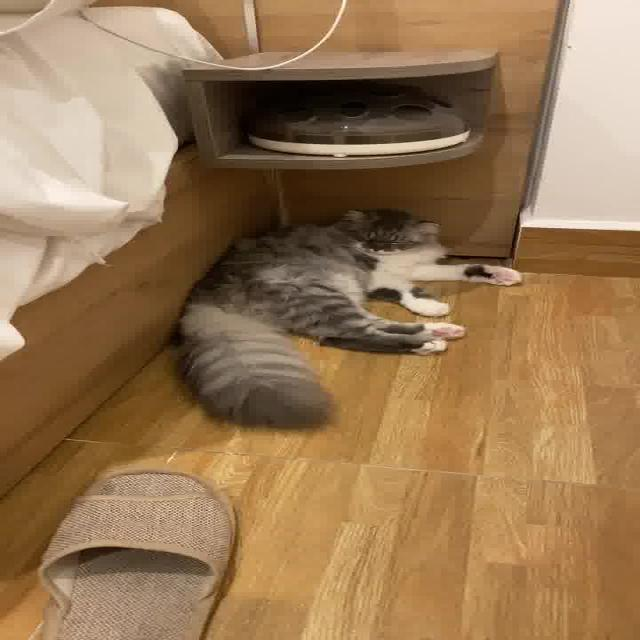cat: (169, 196, 535, 439)
